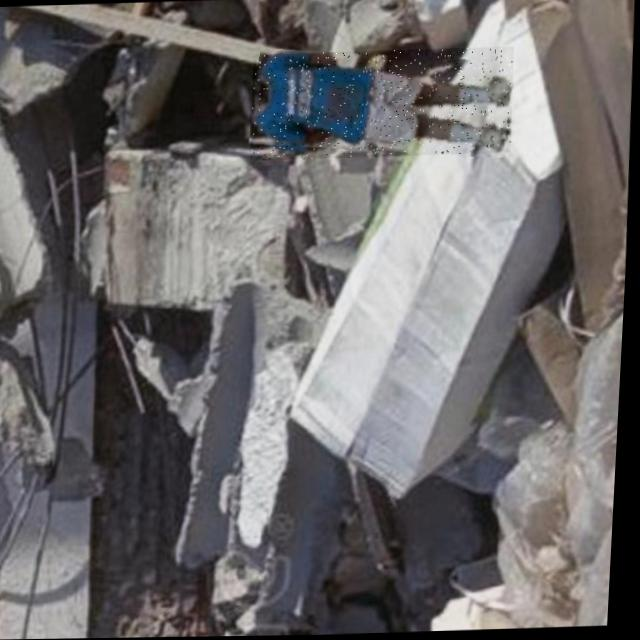Person in Rubble: (250, 46, 516, 161)
